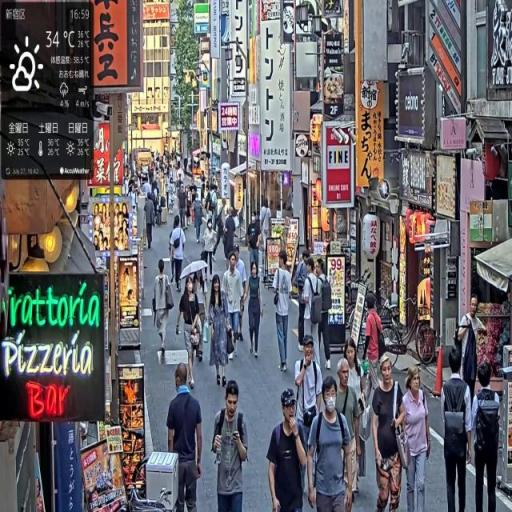person: (307, 374, 357, 512), (371, 354, 408, 511), (167, 362, 205, 512), (266, 389, 312, 512), (210, 378, 250, 512), (441, 354, 473, 512), (398, 366, 432, 512), (470, 364, 503, 512), (336, 357, 364, 511), (294, 337, 325, 463), (177, 275, 204, 393), (207, 275, 234, 392), (152, 258, 177, 367), (273, 251, 294, 376), (223, 250, 246, 359), (244, 259, 265, 362), (169, 215, 187, 293), (248, 211, 263, 279), (224, 206, 239, 271), (144, 191, 156, 253)
